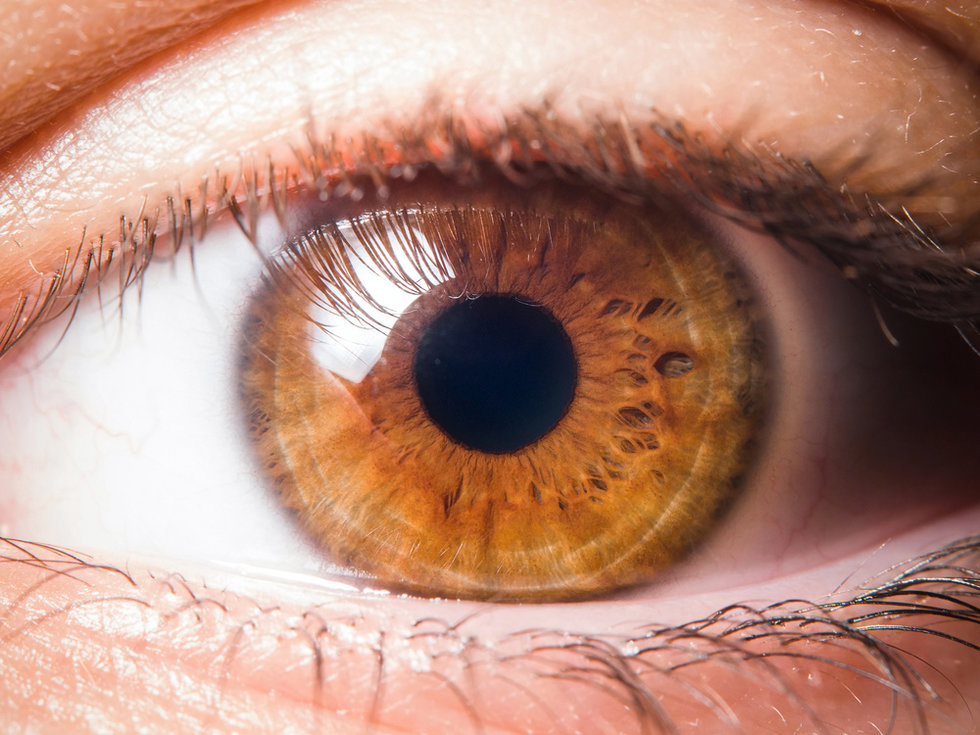iris: (239, 153, 780, 607)
pupil: (412, 291, 582, 457)
